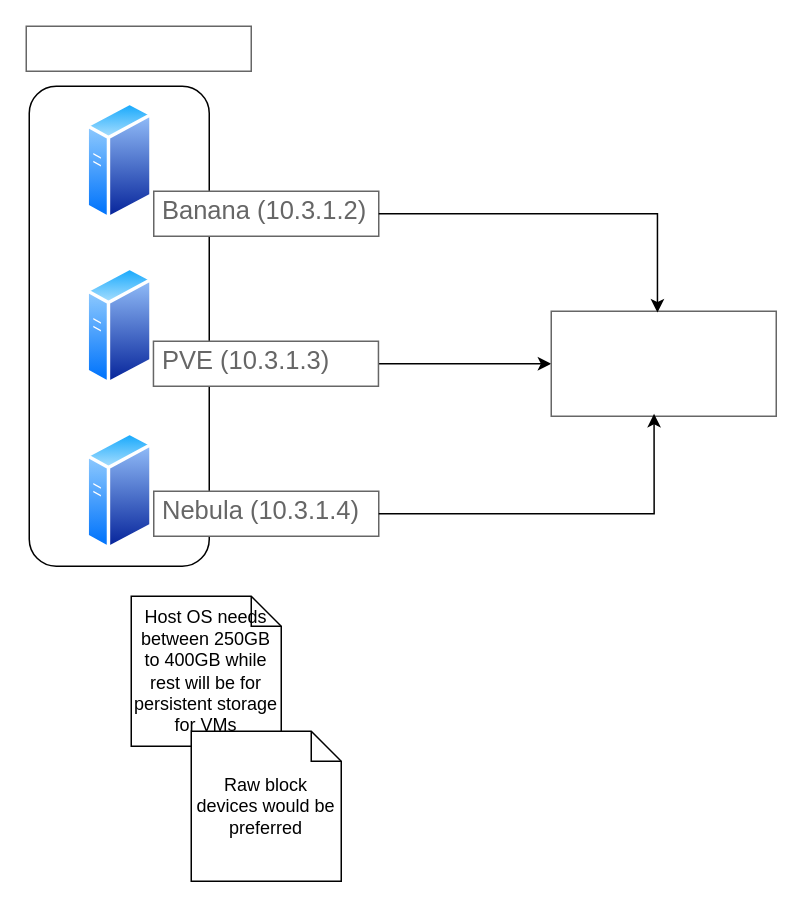
This 803x908 diagram has some shape labels left out. Each missing label, with the centre of its shape:
10.3.1.100 (kubeVIP loadbalancer): point 663,363
Harvester Cluster: point 138,48
